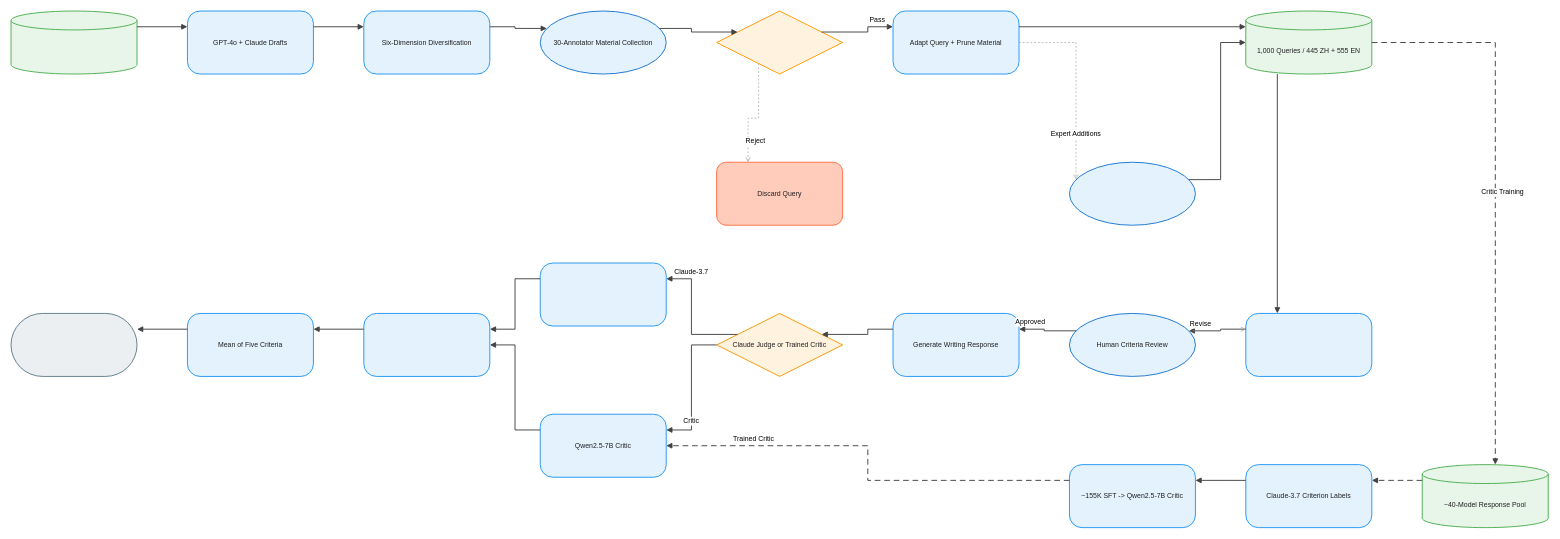
The diagram is 1560 pixels wide and 539 high, and some of its shapes have lost their labels. Each missing label, with the centre of its shape:
"6 Domains / 100 Subdomains" goes at [73,42].
"Claude-3.7 Judge" goes at [602,294].
"Claude-3.7: Exactly 5 Criteria" goes at [1308,345].
"Five Independent Scores (1-10)" goes at [426,345].
"Five-Expert Screen Pass?" goes at [779,42].
"Overall + Requirement Reports" goes at [73,345].
"Peer-Validate Expert Additions" goes at [1132,193].
